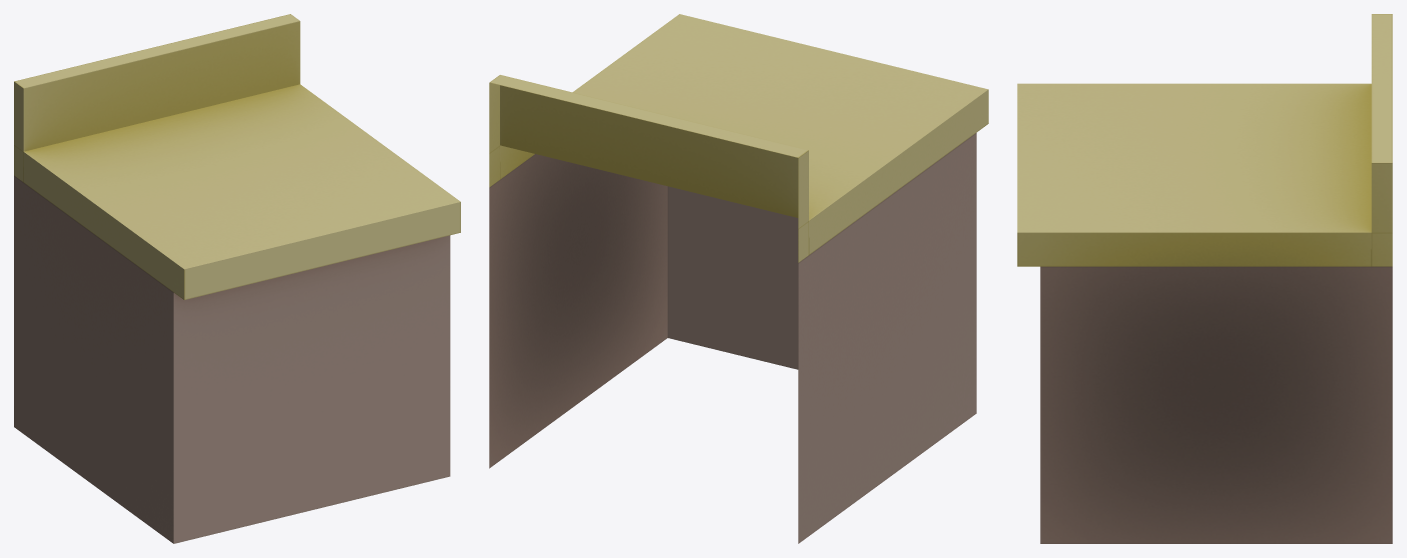
Rendered from Boss Counter.fbx.
3 views of the same model, side by side, from view 1: azimuth 30°, elevation 25°; view 2: azimuth 150°, elevation 25°; view 3: azimuth 270°, elevation 25° (orthographic). The views are drawn at different scales.
Parts seen in each view (by area): view 1: Counter; view 2: Counter; view 3: Counter.
Part boxes in pixels (<box>): Counter: <box>14,14,460,543</box>; Counter: <box>489,14,988,543</box>; Counter: <box>1017,14,1392,543</box>.
Size of the model in its own units: 41.93 by 50.05 by 44.71.
Materials: 1 (1 with a texture image).
